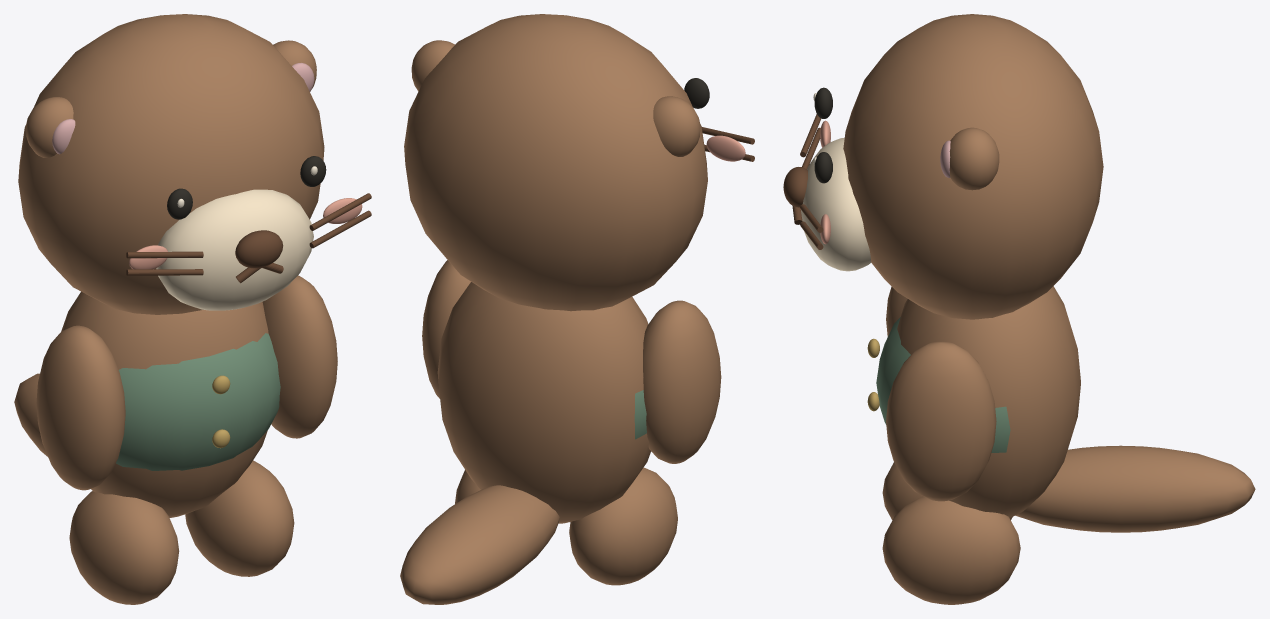
Rendered from otter.glb.
The picture shows the model from 3 angles, left to right: view 1: azimuth 30°, elevation 25°; view 2: azimuth 150°, elevation 25°; view 3: azimuth 270°, elevation 25°; orthographic projection.
Visible parts, largest first — view 1: Head.004, Soft waistcoat.005, Body.005, Muzzle.004, arm_L.005, foot_L.005, arm_R.005, foot_R.005, Ear.008, Nose.004, Tail.004, Ear.009 (+9 smaller); view 2: Head.004, Body.005, Tail.004, arm_L.005, foot_L.005, arm_R.005, Ear.008, Ear.009, Blush.010, Eye.010, Soft waistcoat.005; view 3: Head.004, Body.005, Tail.004, arm_R.005, foot_R.005, Muzzle.004, Ear.009, Soft waistcoat.005, foot_L.005, Nose.004.
Part boxes in pixels (x1,y1,x2,y2): Head.004: (18, 14, 324, 314); Soft waistcoat.005: (116, 333, 280, 470); Body.005: (61, 291, 268, 517); Muzzle.004: (156, 189, 313, 310); arm_L.005: (36, 325, 125, 490); foot_L.005: (69, 491, 179, 604); arm_R.005: (262, 275, 337, 438); foot_R.005: (185, 460, 294, 576); Ear.008: (26, 97, 73, 157); Nose.004: (235, 230, 283, 268); Tail.004: (14, 373, 47, 456); Ear.009: (273, 40, 316, 91); Head.004: (404, 14, 707, 311); Body.005: (437, 282, 651, 523); Tail.004: (400, 485, 559, 604); arm_L.005: (643, 300, 721, 463); foot_L.005: (569, 467, 677, 585); arm_R.005: (422, 260, 470, 398); Ear.008: (653, 96, 700, 156); Ear.009: (411, 40, 454, 91); Blush.010: (706, 135, 745, 161); Eye.010: (684, 78, 709, 108); Soft waistcoat.005: (634, 390, 646, 439); Head.004: (843, 14, 1103, 319); Body.005: (897, 286, 1080, 517); Tail.004: (1015, 445, 1255, 532); arm_R.005: (886, 341, 996, 501); foot_R.005: (882, 496, 1020, 604); Muzzle.004: (800, 138, 871, 271); Ear.009: (949, 127, 999, 190); Soft waistcoat.005: (876, 317, 1010, 452); foot_L.005: (882, 462, 1012, 520); Nose.004: (783, 167, 807, 207).
Bounding box in the file's own units: 0.9402 × 1.74 × 1.37.
